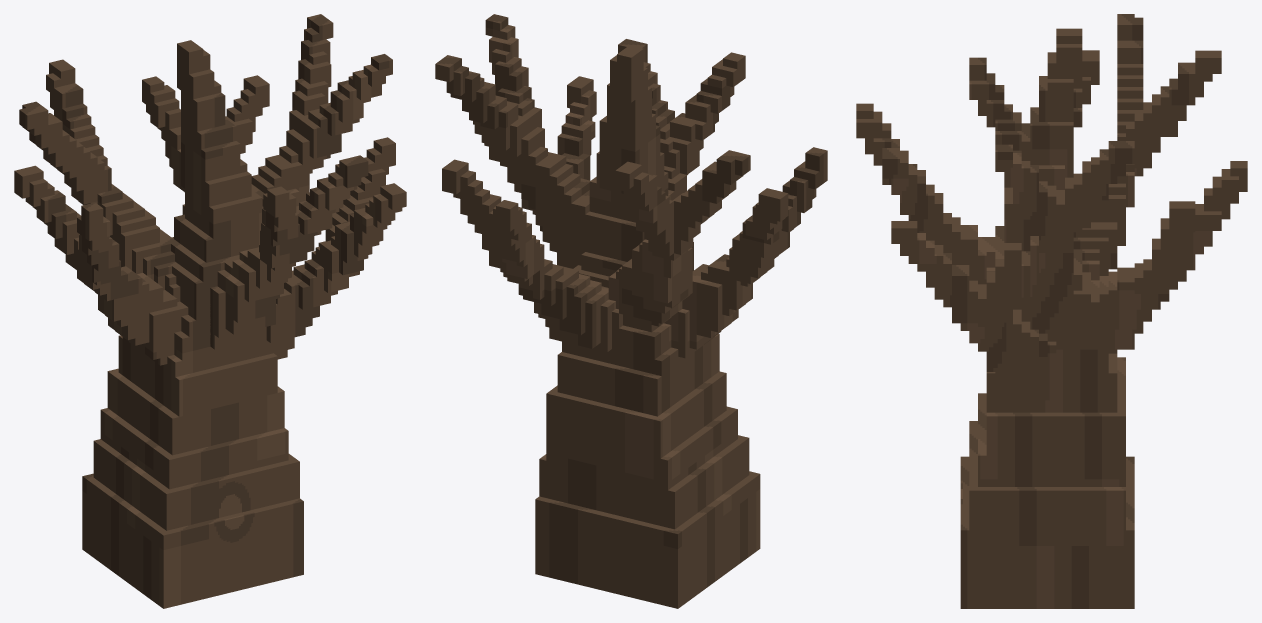
File: apple_ancient_winter_2.glb
3 renders of one model, left to right at view 1: azimuth 30°, elevation 25°; view 2: azimuth 150°, elevation 25°; view 3: azimuth 270°, elevation 25°, orthographic. The views are drawn at different scales.
Visible parts, largest first — view 1: VoxelVisual; view 2: VoxelVisual; view 3: VoxelVisual.
Boxes of the visible parts, x1,y1,x2,y2 form: VoxelVisual: (14,14,406,608); VoxelVisual: (435,14,827,608); VoxelVisual: (856,14,1247,608).
Size of what is drawn, in the model's own units: 12 by 17.25 by 11.25.
